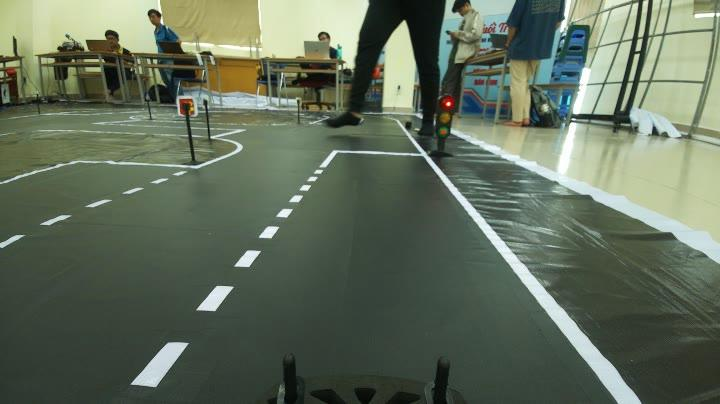trafficlight: (424, 88, 466, 162)
